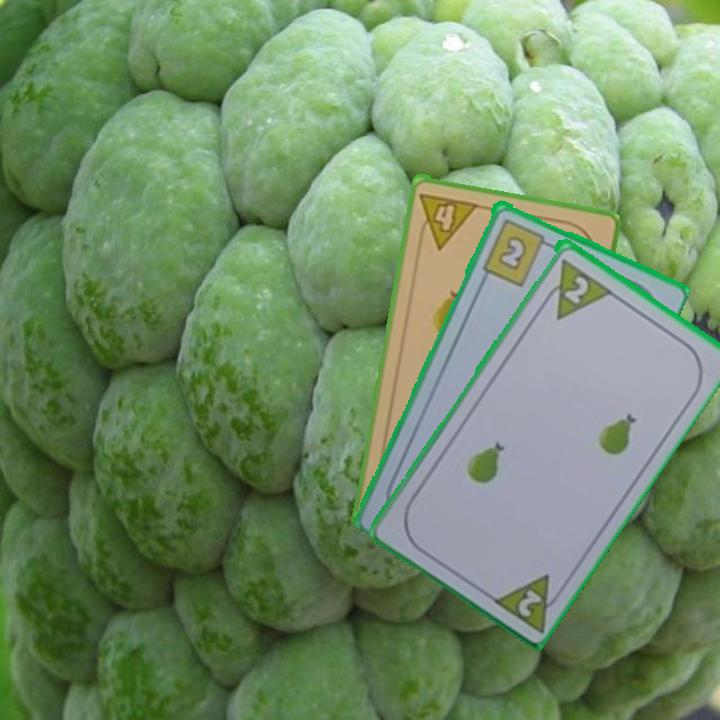2b: (478, 214, 556, 289)
2p: (560, 271, 592, 307), (513, 585, 545, 620)
4p: (413, 188, 481, 251)
